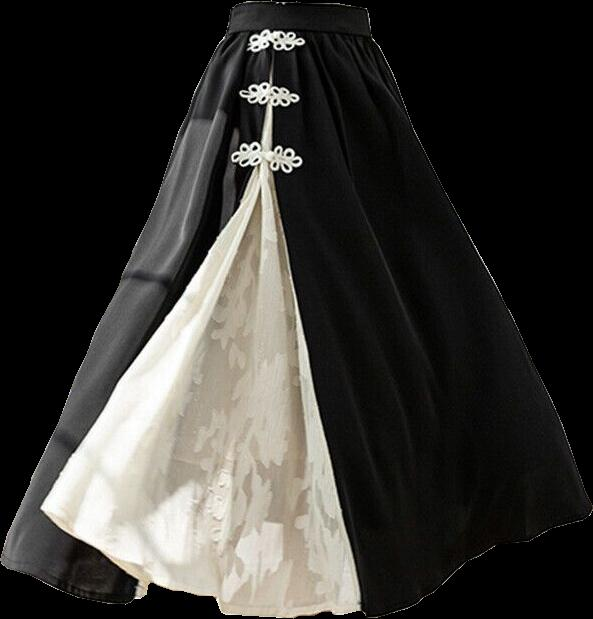Hemline: (0, 508, 592, 618)
Waistline: (222, 27, 368, 40), (229, 0, 365, 10)
